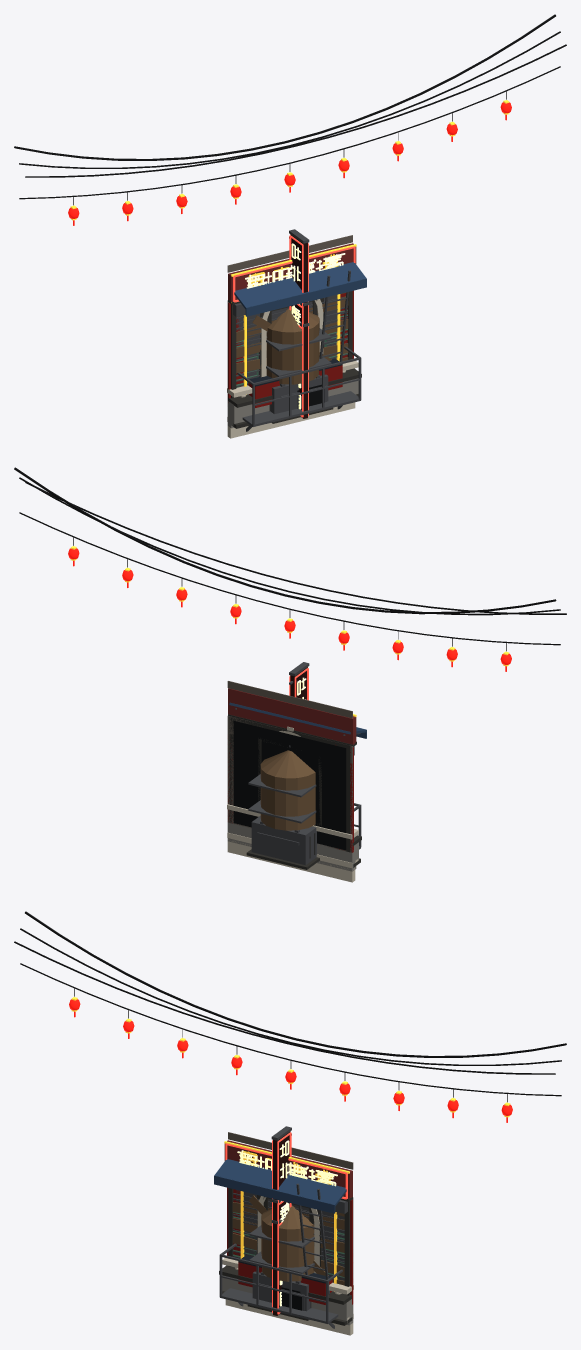
File: street.glb
The picture shows the model from 3 angles, top to bottom: view 1: azimuth 30°, elevation 25°; view 2: azimuth 150°, elevation 25°; view 3: azimuth 330°, elevation 25°; orthographic projection.
Visible parts, largest first — view 1: boarded, cables, awning, goldshop_0, water_tank, escape, lanterns, neon_blade_tall, cornice, parapet, roof_ac, sign_neon_0 (+4 smaller); view 2: boarded, water_tank, cables, lanterns, roof_ac, parapet, door, cornice, upper_boarded, neon_blade_tall, awning; view 3: boarded, cables, awning, goldshop_0, escape, water_tank, lanterns, cornice, neon_blade_tall, parapet, roof_ac, shutter (+3 smaller).
Part boxes in pixels (x1=…): boarded: x1=227, y1=235, x2=356, y2=422; cables: x1=14, y1=14, x2=566, y2=177; awning: x1=234, y1=262, x2=366, y2=316; goldshop_0: x1=228, y1=244, x2=356, y2=407; water_tank: x1=266, y1=308, x2=331, y2=386; escape: x1=237, y1=270, x2=361, y2=431; lanterns: x1=19, y1=66, x2=560, y2=225; neon_blade_tall: x1=289, y1=229, x2=309, y2=416; cornice: x1=228, y1=368, x2=361, y2=428; parapet: x1=227, y1=361, x2=358, y2=438; roof_ac: x1=269, y1=374, x2=333, y2=423; sign_neon_0: x1=233, y1=246, x2=355, y2=302; boarded: x1=227, y1=681, x2=356, y2=867; water_tank: x1=248, y1=750, x2=316, y2=832; cables: x1=14, y1=467, x2=566, y2=615; lanterns: x1=19, y1=512, x2=560, y2=671; roof_ac: x1=246, y1=816, x2=319, y2=869; parapet: x1=227, y1=804, x2=358, y2=882; door: x1=227, y1=716, x2=352, y2=852; cornice: x1=227, y1=814, x2=361, y2=867; upper_boarded: x1=261, y1=741, x2=318, y2=824; neon_blade_tall: x1=289, y1=662, x2=309, y2=700; awning: x1=229, y1=702, x2=366, y2=738; boarded: x1=224, y1=1132, x2=353, y2=1317; cables: x1=14, y1=911, x2=566, y2=1074; awning: x1=214, y1=1159, x2=346, y2=1213; goldshop_0: x1=224, y1=1141, x2=353, y2=1304; escape: x1=219, y1=1183, x2=342, y2=1328; water_tank: x1=249, y1=1205, x2=314, y2=1283; lanterns: x1=20, y1=963, x2=561, y2=1122; cornice: x1=219, y1=1265, x2=353, y2=1325; neon_blade_tall: x1=271, y1=1126, x2=291, y2=1315; parapet: x1=222, y1=1258, x2=353, y2=1335; roof_ac: x1=247, y1=1271, x2=311, y2=1320; shutter: x1=233, y1=1190, x2=347, y2=1280.
Bounding box in the file's own units: 13.02 × 7.75 × 1.35.
